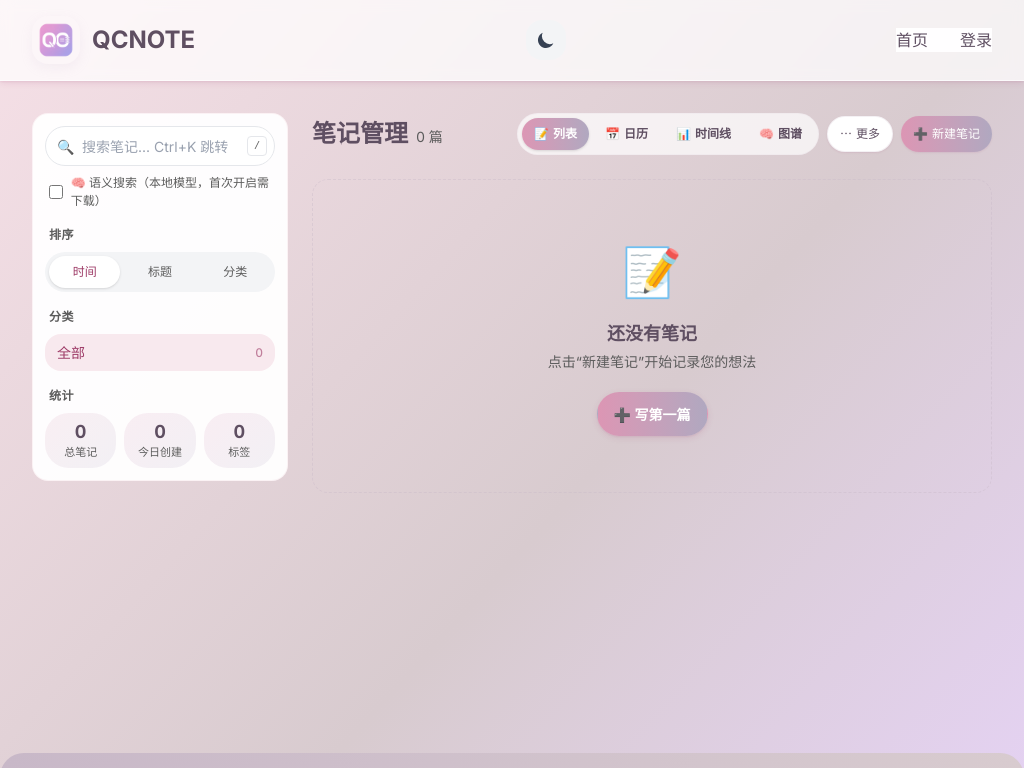
Dashboard 命令面板 › 选择“新建笔记”命令：关闭面板并打开编辑器
Expected: the heading "笔记管理" is shown, [312,116,408,152]
Press k
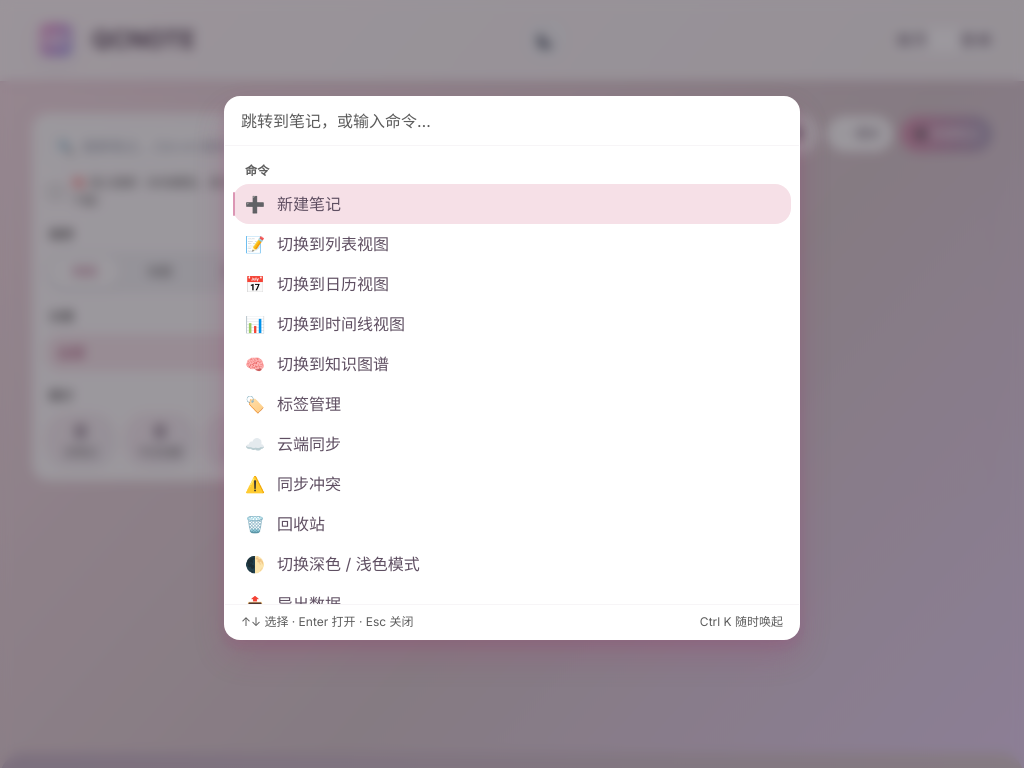
Click the option "➕ 新建笔记": (309, 204) [233,184,791,224]
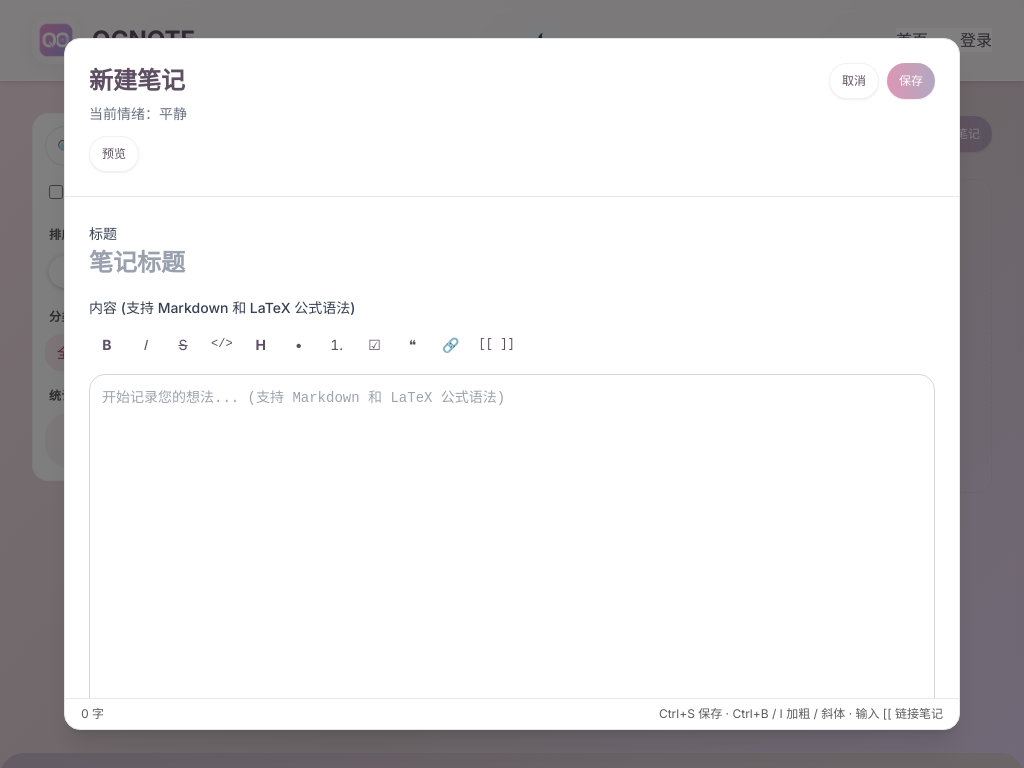
Now the dialog "新建笔记" is shown
Now the dialog "快速跳转与命令" is gone
